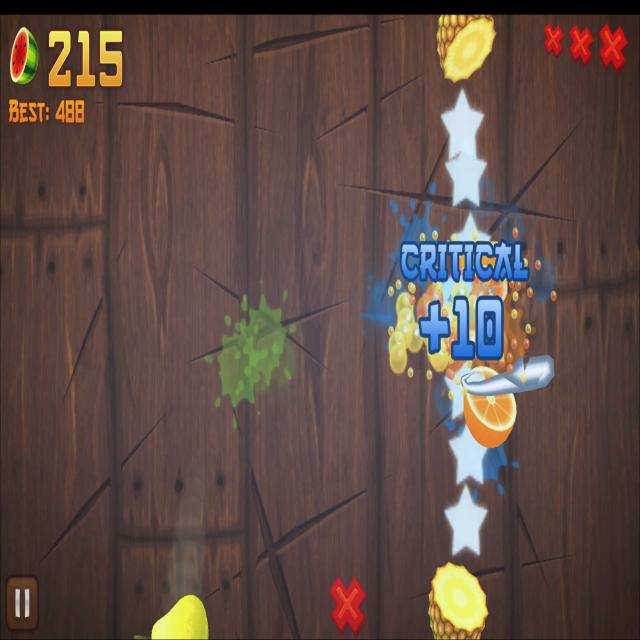fruit: (150, 594, 209, 640)
